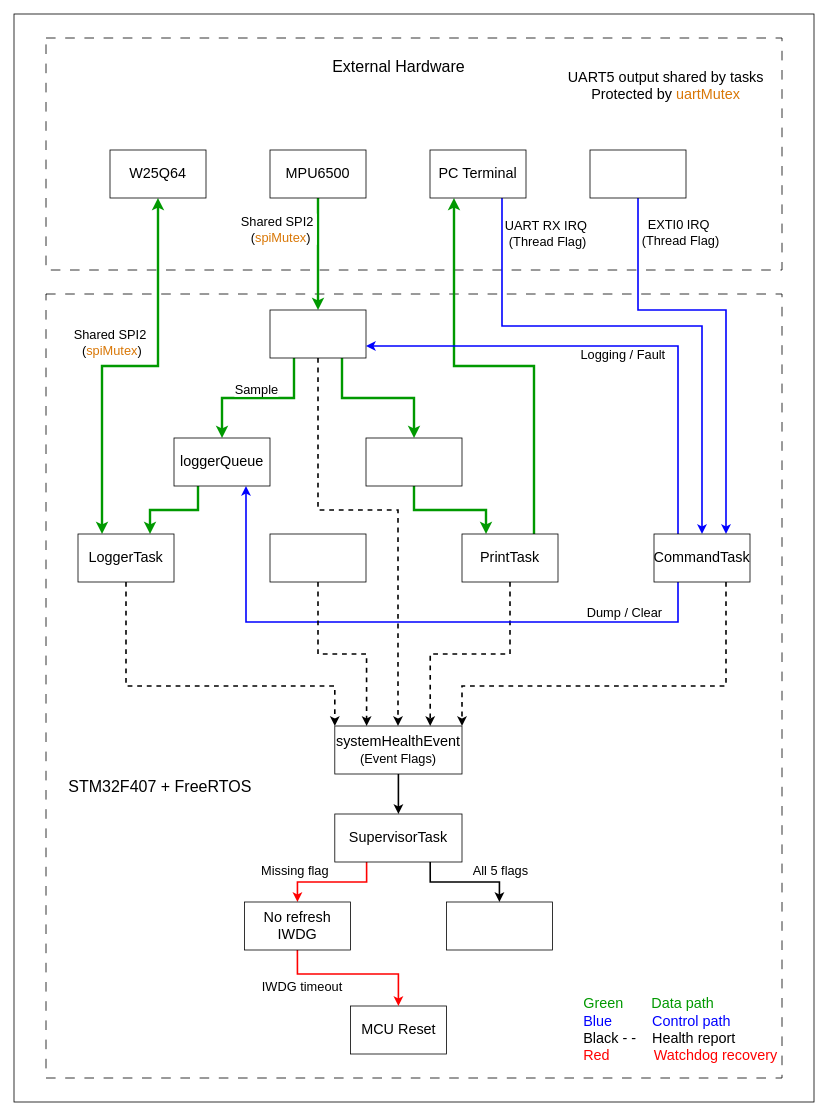
This 828x1116 diagram has some shape labels left out. Each missing label, with the box of its shape:
HeartbeatTask (500ms): (269, 533, 366, 582)
imuQueue: (365, 437, 462, 486)
IMUTask (20ms): (269, 309, 366, 358)
PA0 Button: (589, 149, 686, 198)
Refresh IWDG: (446, 901, 552, 950)
